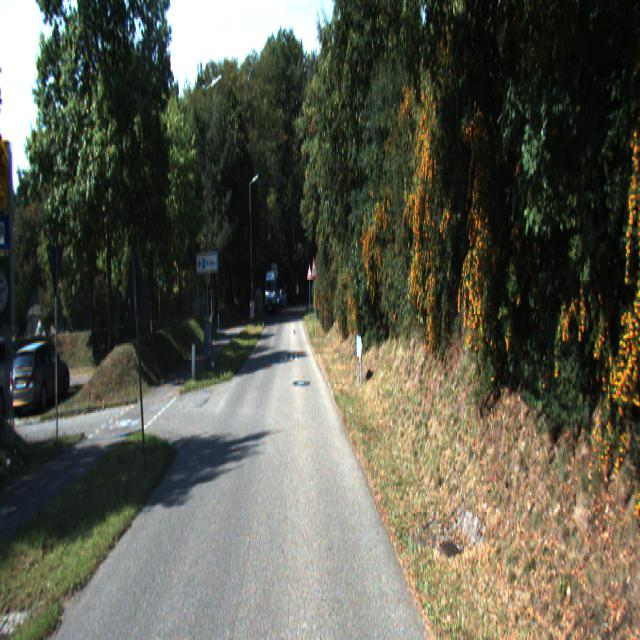Car: (9, 339, 72, 417), (0, 336, 36, 415)
